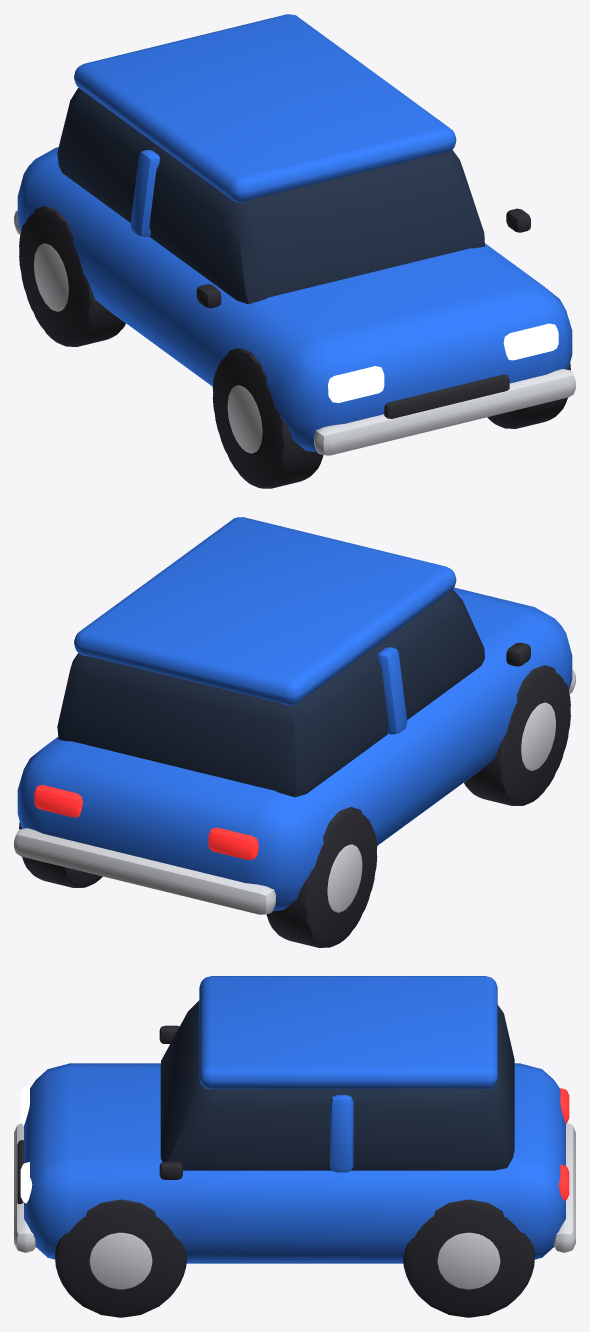
File: ToyBigCar.fbx
The picture shows the model from 3 angles, top to bottom: view 1: azimuth 30°, elevation 25°; view 2: azimuth 150°, elevation 25°; view 3: azimuth 270°, elevation 25°; orthographic projection. The views are drawn at different scales.
Parts seen in each view (by area): view 1: ToyBigCar; view 2: ToyBigCar; view 3: ToyBigCar.
Boxes of the visible parts, x1,y1,x2,y2 form: ToyBigCar: (14,14,575,488); ToyBigCar: (14,517,575,947); ToyBigCar: (14,976,575,1317).
Bounding box in the file's own units: 1.01 × 0.7748 × 1.68.
